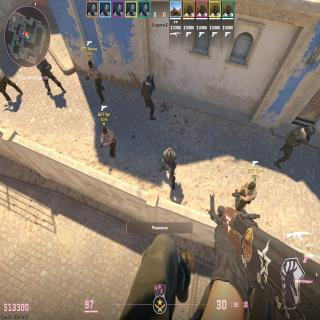CT-Body: (279, 125, 313, 161), (38, 58, 61, 92), (160, 147, 178, 187), (140, 75, 156, 117)
CT-Head: (305, 126, 313, 134), (166, 151, 172, 161), (146, 74, 152, 82), (40, 60, 45, 65)
T-Body: (85, 60, 105, 103), (0, 68, 21, 102), (234, 180, 257, 207), (101, 126, 117, 157)
T-Head: (248, 181, 256, 190), (88, 60, 93, 69), (102, 127, 107, 135)
